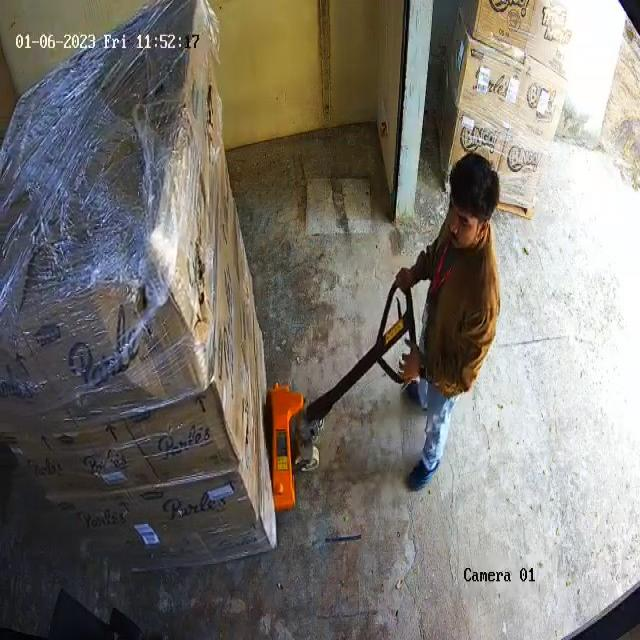leakage: (185, 224, 211, 328)
tear: (202, 80, 221, 166)
